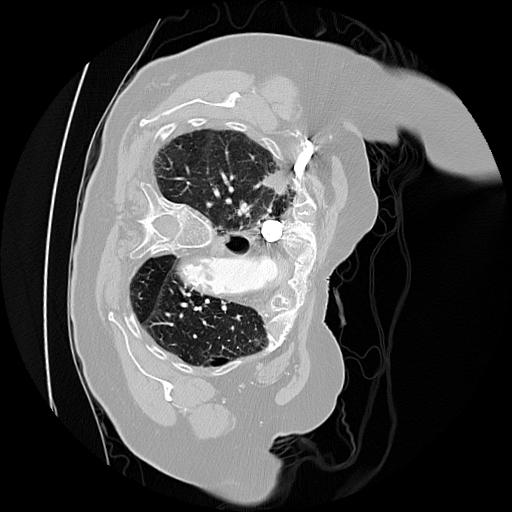nodule: (265, 167, 295, 197)
